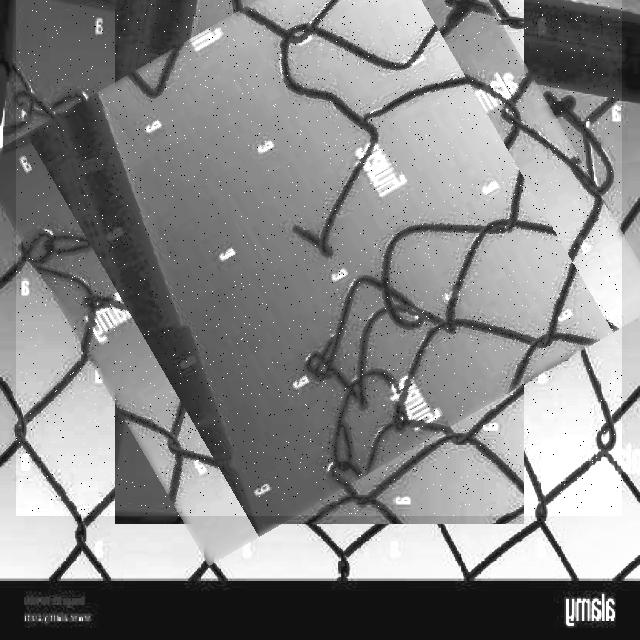anomaly-fence: (16, 0, 622, 516)
